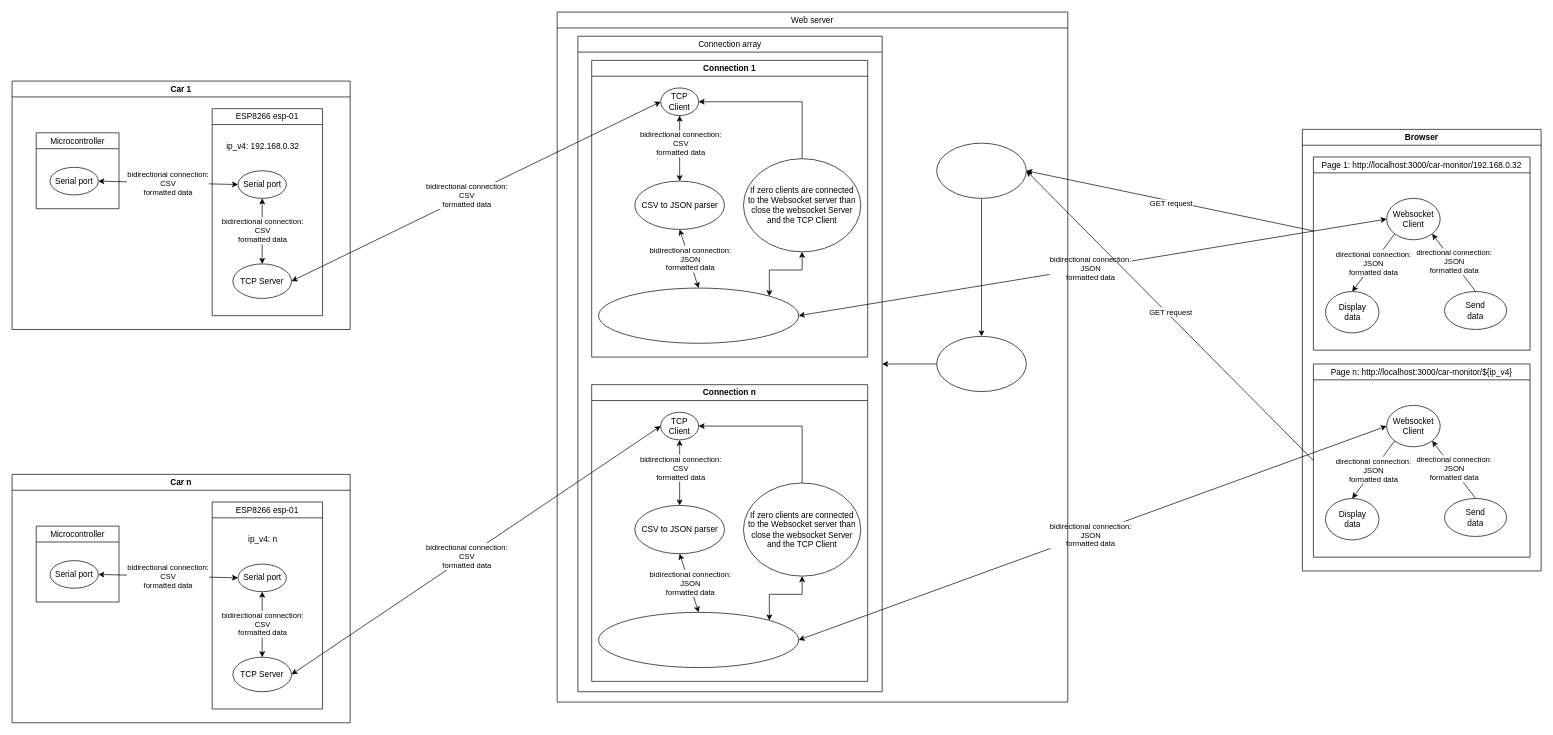
Image size: 1553x735. Some labels were removed from this diagram. The centre of each missing label's shape, as x and y in pixels:
"Create Connection if doesen't exist" belongs at pixel 981 364.
"Serve page" belongs at pixel 981 170.
"Websocket Server ws://localhost:3000/car-monitor/ 192.168.0.32" belongs at pixel 698 315.
"Websocket Server ws://localhost:3000/car-monitor/${ ip_v4 }" belongs at pixel 698 640.
